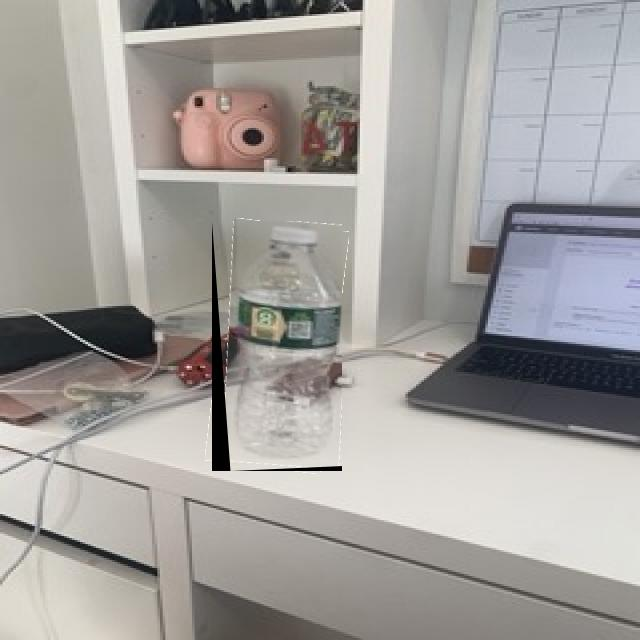water_bottle: (212, 221, 342, 471)
